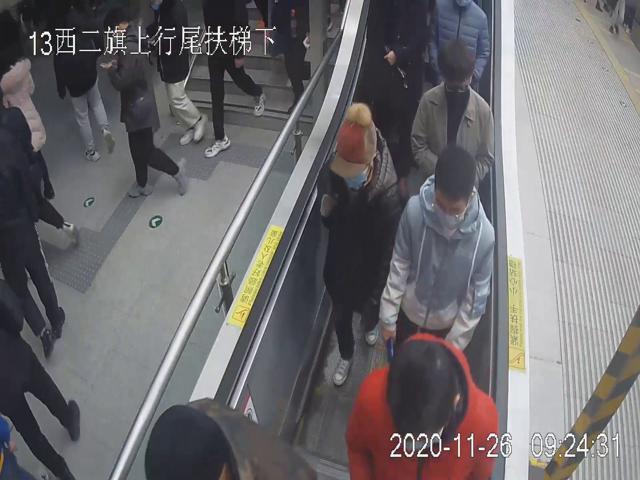person: (316, 95, 404, 388), (380, 140, 494, 355), (408, 38, 495, 184)
